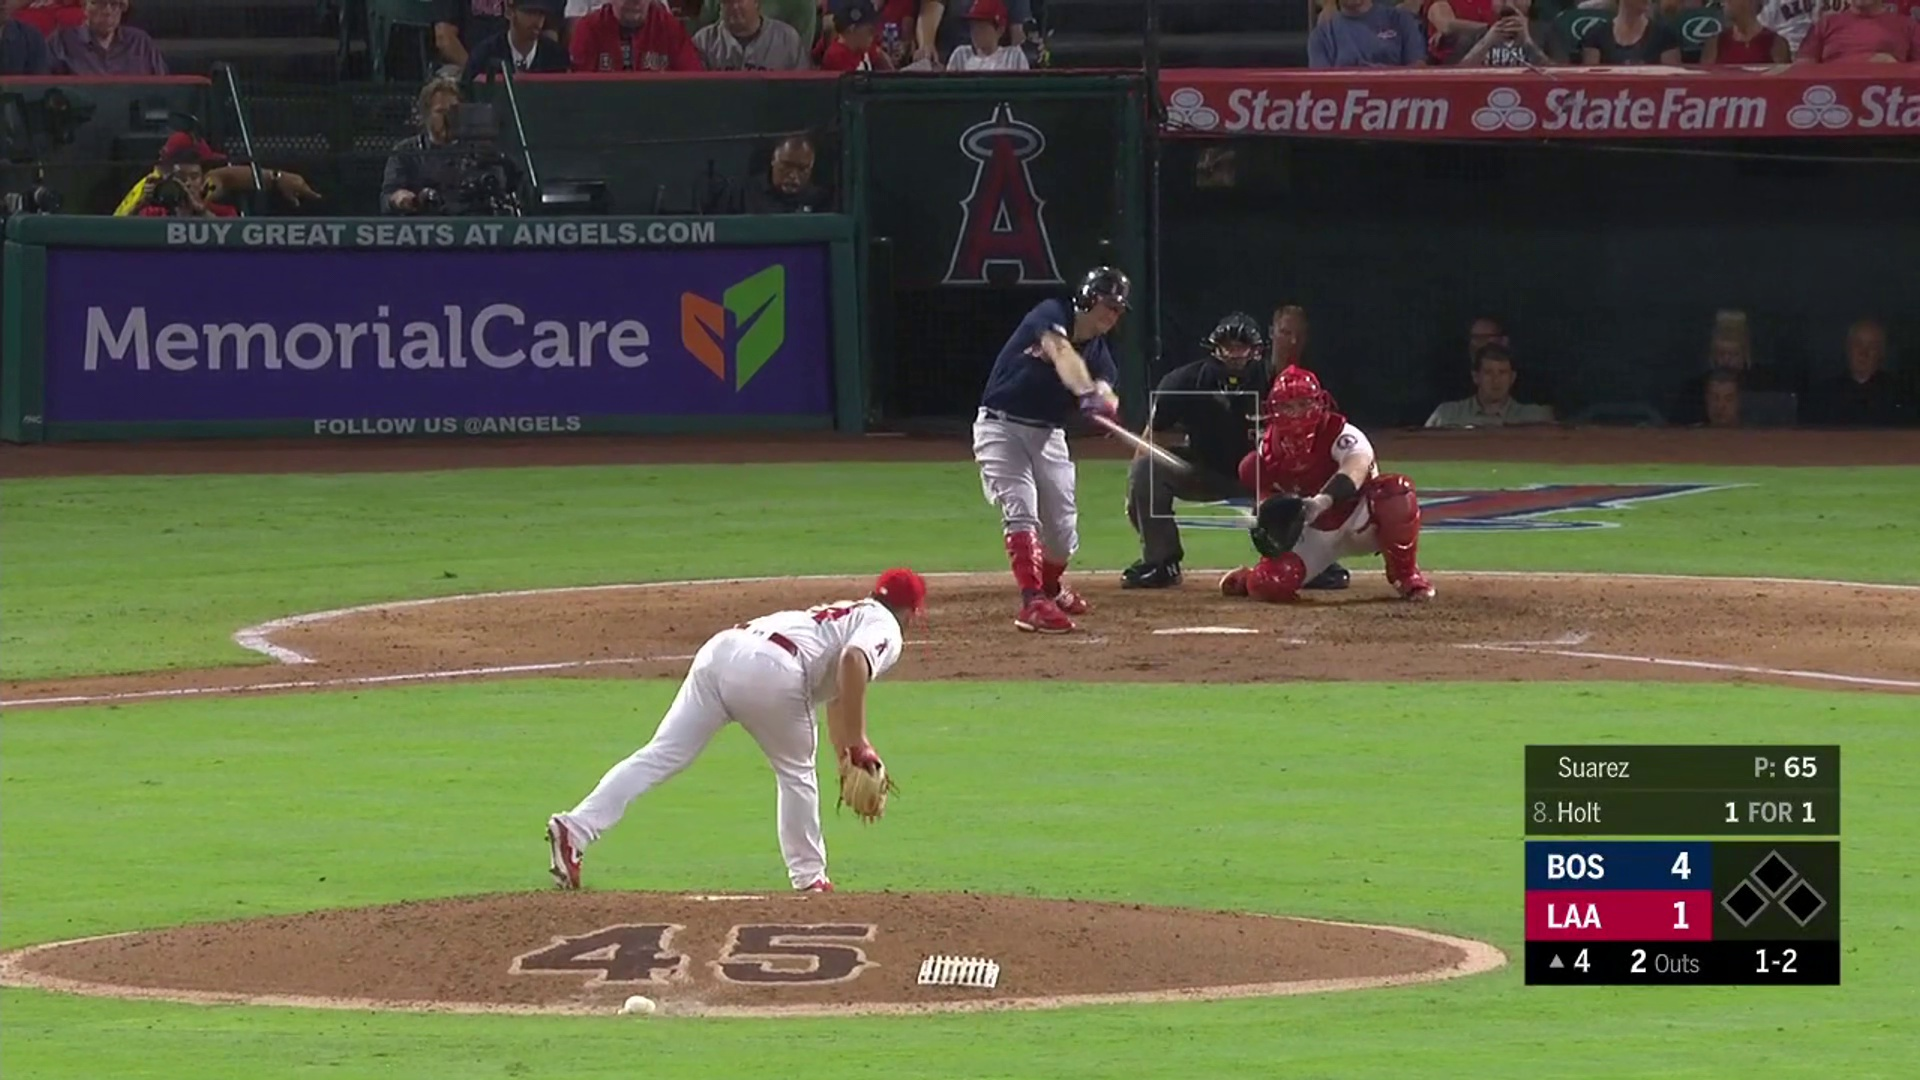baseball: (1237, 510, 1255, 527)
